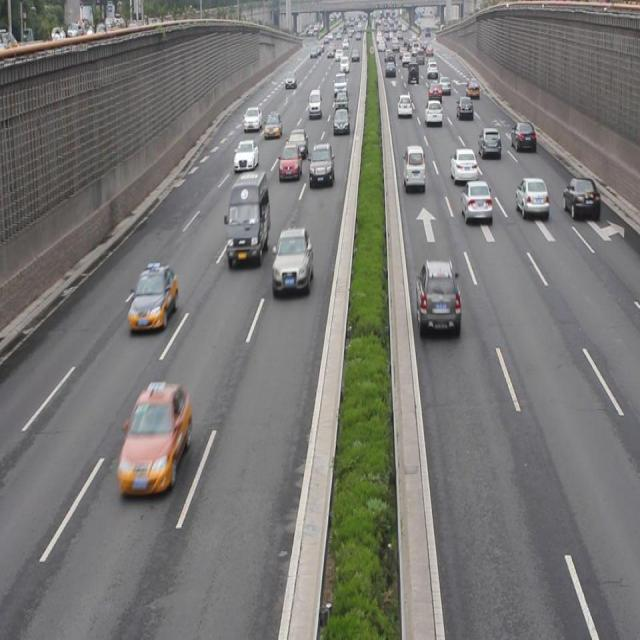car: (117, 379, 191, 494), (127, 264, 179, 332), (414, 256, 458, 334), (272, 226, 313, 293), (561, 175, 600, 220), (514, 175, 547, 220), (460, 178, 492, 224), (308, 140, 334, 188), (450, 145, 478, 182), (232, 136, 258, 172), (278, 142, 302, 180), (510, 120, 536, 153), (478, 126, 502, 161), (263, 110, 282, 140), (288, 128, 308, 155), (243, 104, 262, 130), (423, 99, 442, 124), (332, 107, 349, 134)
truck: (225, 170, 269, 266), (402, 143, 424, 191)
